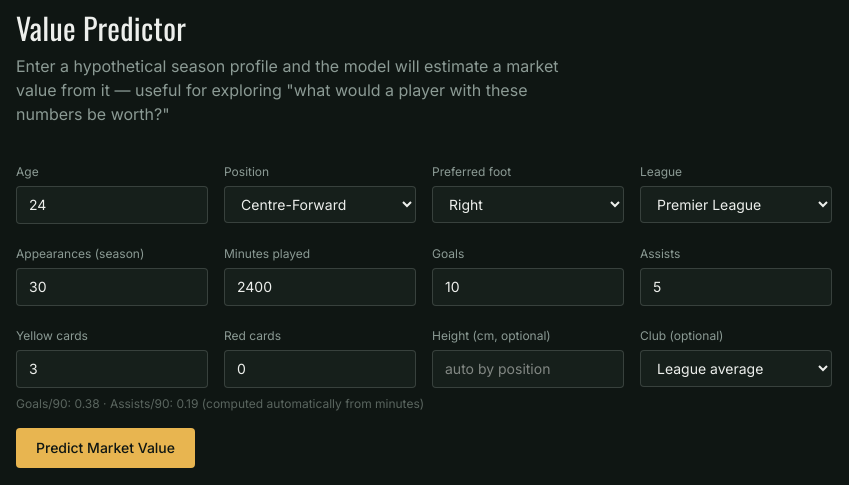
Test: Predictor › updates goals/90 preview as goals are edited
Replace the text in the number field labelled "Goals" with "20". click: (528, 287)
box: [432,268,624,306]
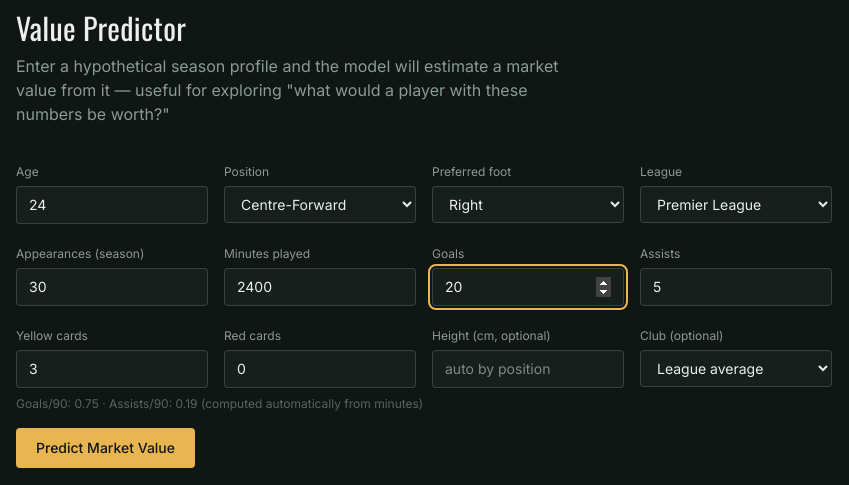
Check: the text "Goals/90: 0.75" is shown, box [16,396,423,411]
